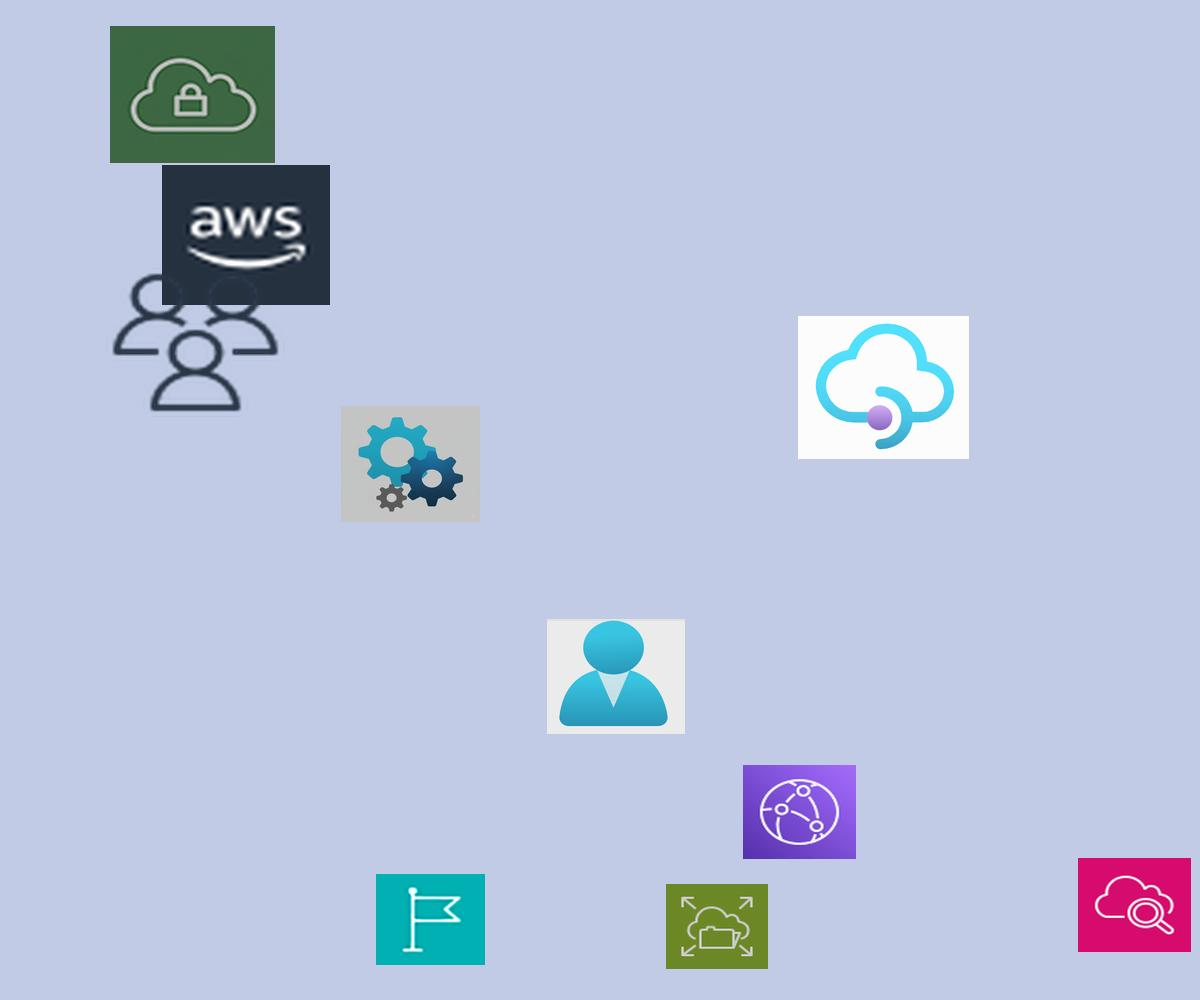AWS-Cloud-logo: (162, 165, 330, 305)
AWS-CloudFront: (743, 765, 856, 859)
AWS-CloudWatch: (1078, 858, 1191, 952)
AWS-EFS: (666, 884, 768, 969)
AWS-Private_vpc: (110, 26, 275, 163)
AWS-Region: (376, 874, 485, 965)
AWS-Res_Users: (106, 268, 285, 417)
Azure_api: (341, 406, 480, 522)
Azure_api_gateway: (798, 316, 969, 459)
Azure_users: (547, 619, 685, 734)
